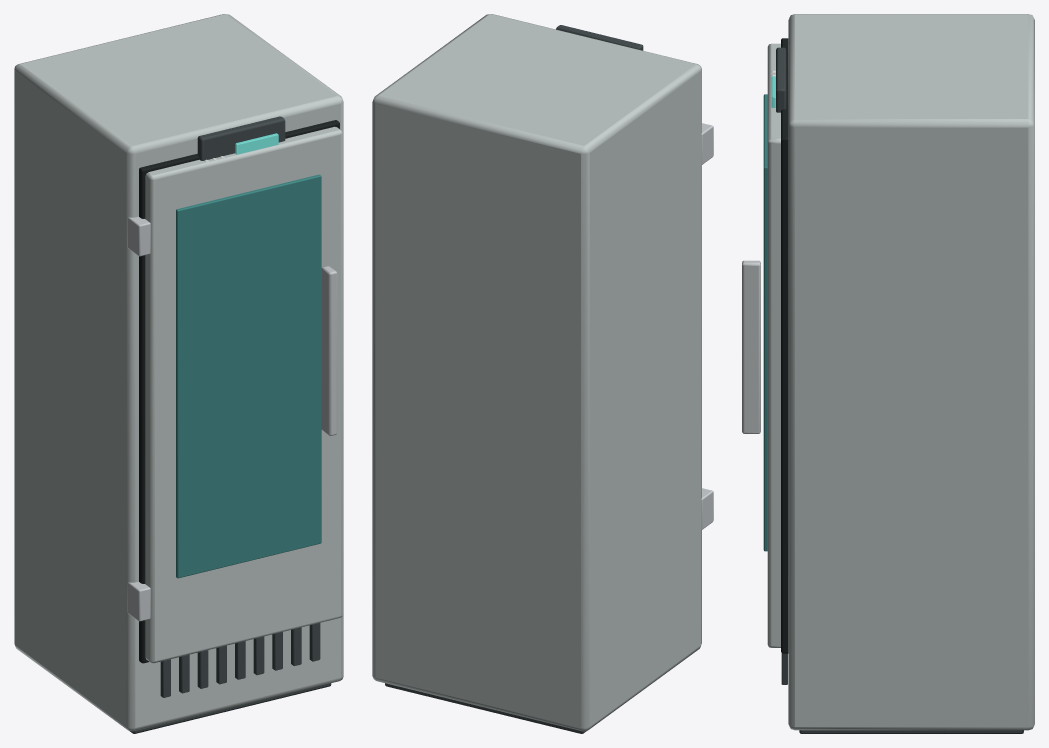
The model's file is LP_SampleColdCabinet.fbx.
3 views of the same model, side by side, from view 1: azimuth 30°, elevation 25°; view 2: azimuth 150°, elevation 25°; view 3: azimuth 270°, elevation 25° (orthographic). The views are drawn at different scales.
Parts seen in each view (by area): view 1: Body; view 2: Body; view 3: Body.
Part boxes in pixels (x1,y1,x2,y2): Body: (14, 14, 343, 733); Body: (372, 14, 713, 733); Body: (742, 14, 1034, 733).
Size of the model in its own units: 72 by 188 by 80.8.
